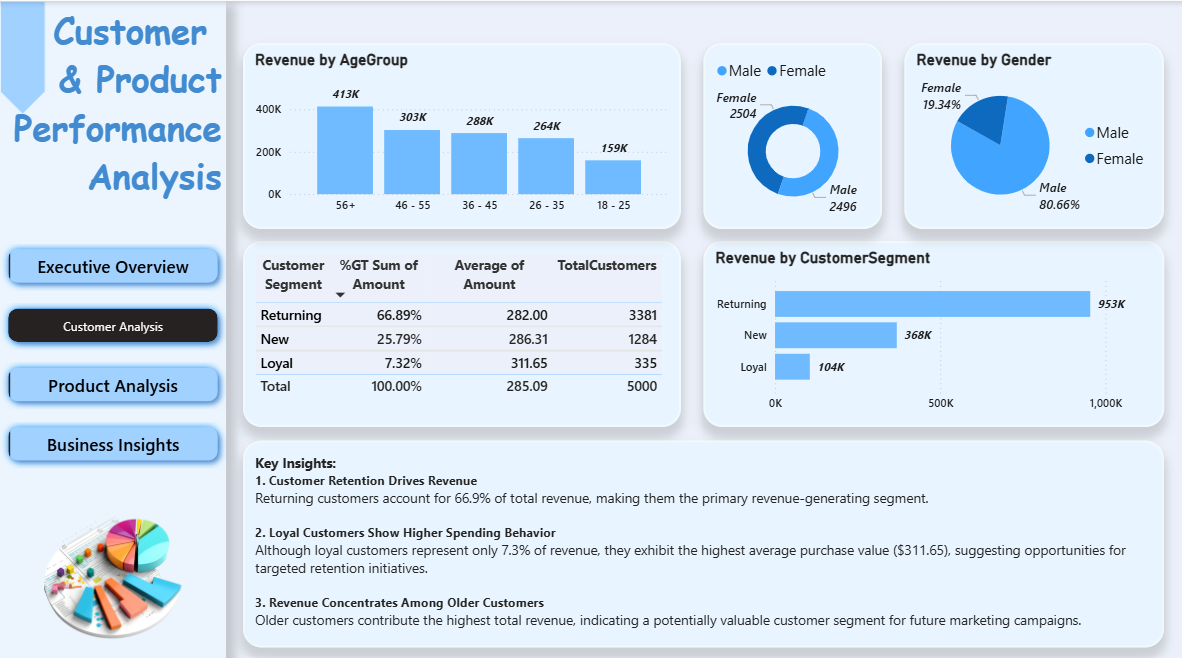

The page's visual inventory and layout, read from the dashboard file:
{"tool":"powerbi","page":{"name":"Customer Analysis","canvas":[1280,720],"ordinal":1},"visuals":[{"type":"textbox","box":[0,0,243.8,720],"z":0,"group":"g1"},{"type":"barChart","title":"Revenue by CustomerSegment","fields":{"Category":["FACT_Purchases.CustomerSegment"],"Y":["Sum(FACT_Purchases.Amount)"]},"box":[759.4,259.1,497.1,200.8],"z":0},{"type":"shape","box":[0,0,49.1,122.8],"z":1000,"group":"g1"},{"type":"tableEx","fields":{"Values":["FACT_Purchases.CustomerSegment","Sum(FACT_Purchases.Amount)1","Avg(FACT_Purchases.Amount)","FACT_Purchases.TotalCustomers"]},"box":[262.3,259.1,472.8,200.8],"z":1000},{"type":"textbox","box":[262.3,474.4,994.2,223.5],"z":2000},{"type":"group","id":"g1","title":"Group 1","box":[0,0,243.8,720],"z":3000},{"type":"donutChart","fields":{"Category":["DIM_Customer.Gender"],"Y":["FACT_Purchases.TotalCustomers"]},"box":[759.4,45.3,192.7,200.8],"z":4000},{"type":"clusteredColumnChart","title":"Revenue by AgeGroup","fields":{"Category":["DIM_Customer.AgeGroup"],"Y":["Sum(FACT_Purchases.Amount)"]},"box":[262.3,45.3,472.8,200.8],"z":5000},{"type":"pieChart","title":"Revenue by Gender","fields":{"Category":["DIM_Customer.Gender"],"Y":["Sum(FACT_Purchases.Amount)"]},"box":[976.4,45.3,280.1,200.8],"z":6000},{"type":"image","box":[0,518.2,242.9,202.4],"z":7000},{"type":"textbox","box":[0,0,244.5,246.1],"z":8000},{"type":"pageNavigator","box":[0,259.1,244.5,249.4],"z":9000}]}

Visuals, with their boxes in screenshot pixels (x1, y1, x2, y2), scaled from the page's 1280x720 canvas onto the 1182x658 screenshot:
textbox: [left=0, top=0, right=225, bottom=657]
"Revenue by CustomerSegment" barChart: [left=701, top=237, right=1160, bottom=420]
shape: [left=0, top=0, right=45, bottom=112]
tableEx - FACT_Purchases.CustomerSegment x Sum(FACT_Purchases.Amount)1: [left=242, top=237, right=679, bottom=420]
textbox: [left=242, top=434, right=1160, bottom=638]
"Group 1" group: [left=0, top=0, right=225, bottom=657]
donutChart - DIM_Customer.Gender x FACT_Purchases.TotalCustomers: [left=701, top=41, right=879, bottom=225]
"Revenue by AgeGroup" clusteredColumnChart: [left=242, top=41, right=679, bottom=225]
"Revenue by Gender" pieChart: [left=902, top=41, right=1160, bottom=225]
image: [left=0, top=474, right=224, bottom=657]
textbox: [left=0, top=0, right=226, bottom=225]
pageNavigator: [left=0, top=237, right=226, bottom=465]
